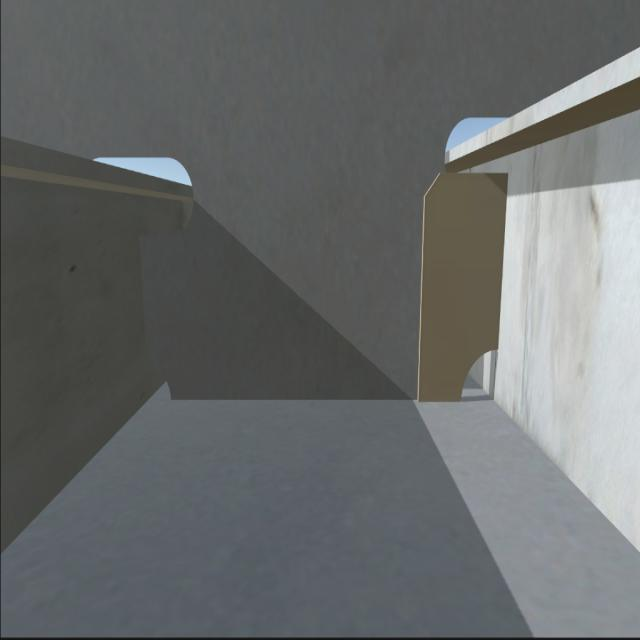fillet_hole: (457, 345, 498, 398), (145, 364, 171, 404)
fillet_yong_jeop_jang: (175, 396, 458, 404)
longi_yong_jeop_jang: (137, 232, 149, 363), (497, 171, 504, 355)
plate_CP03: (420, 170, 500, 395)
